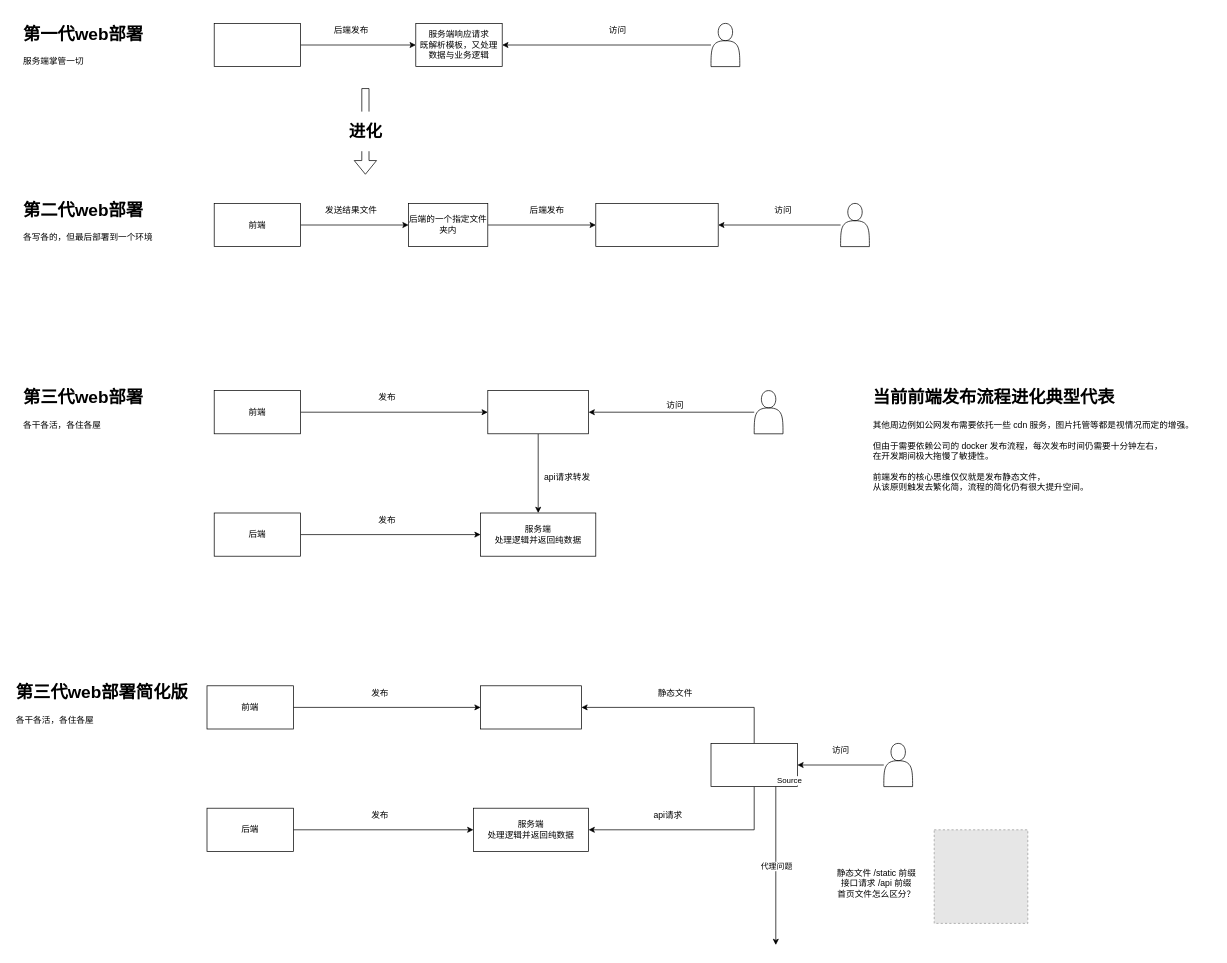
This 1227x963 diagram has some shape labels left out. Grey dashed boxes stand in for pictures. The shapes that lost their labels are listed below. From the top down, each one's centre as x and y in pixels, then its label:
(257,45): 前后端模板混写
(656,225): 所有请求 由服务端接收并处理
(538,412): nginx 静态文件服务
(530,707): 可通过 http 服务响应的 文件存储服务
(753,765): Nginx
